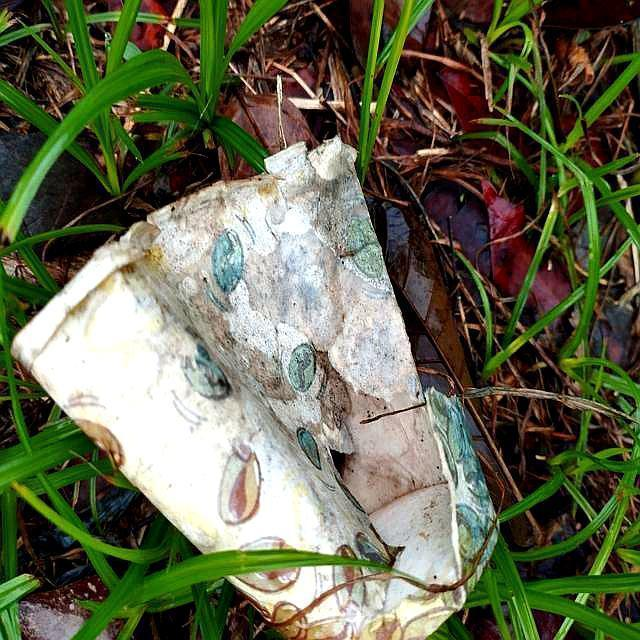Biodegradable: (11, 143, 503, 639)
